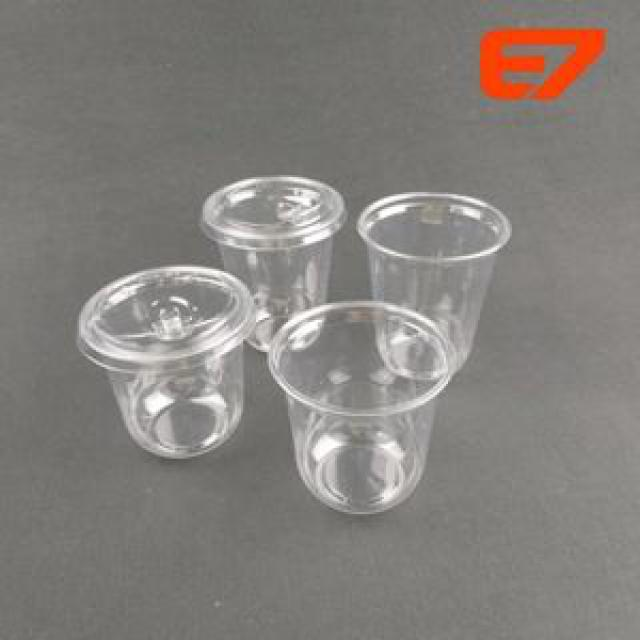plastic cup: (264, 292, 461, 521), (70, 262, 260, 476), (350, 188, 514, 384), (199, 171, 354, 356)
